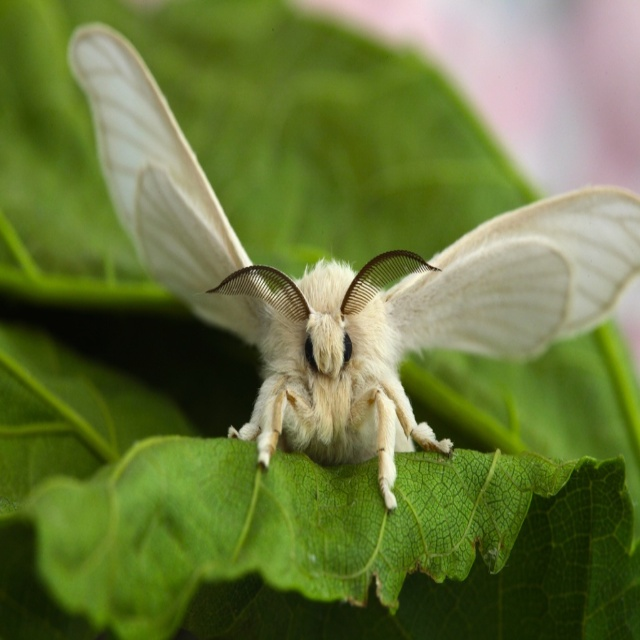Moths and butterflies: (64, 22, 640, 511)
